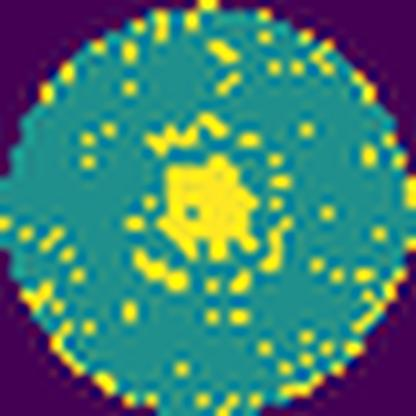Center: (157, 152, 261, 263)
